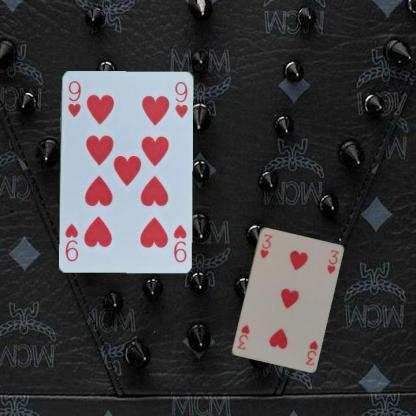3h: (257, 231, 274, 260), (303, 337, 319, 367)
9h: (170, 221, 188, 264), (65, 78, 82, 118)
